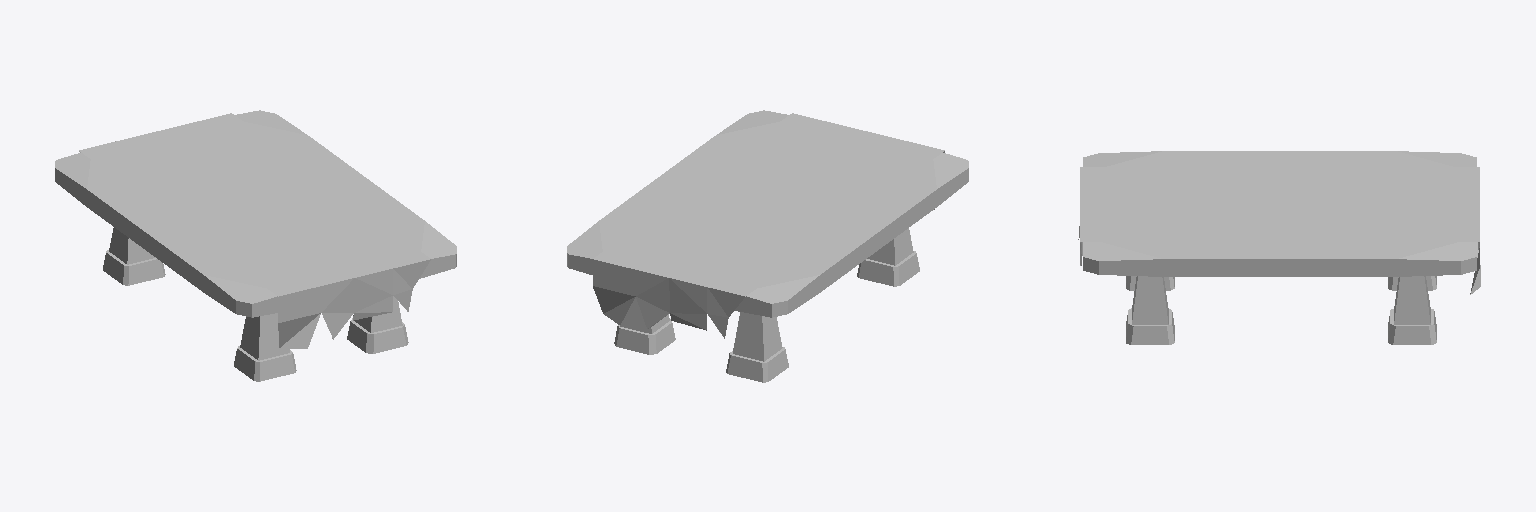
Rendered from mesa.obj.
3 views of the same model, side by side, from view 1: azimuth 30°, elevation 25°; view 2: azimuth 150°, elevation 25°; view 3: azimuth 270°, elevation 25° (orthographic).
Parts seen in each view (by area): view 1: Mesa_1.001_Plane.001; view 2: Mesa_1.001_Plane.001; view 3: Mesa_1.001_Plane.001.
Part boxes in pixels (bbox=[...]): Mesa_1.001_Plane.001: bbox=[55, 110, 456, 381]; Mesa_1.001_Plane.001: bbox=[567, 110, 968, 382]; Mesa_1.001_Plane.001: bbox=[1078, 151, 1480, 344].
Size of the model in its own units: 2.77 by 1.23 by 4.37.